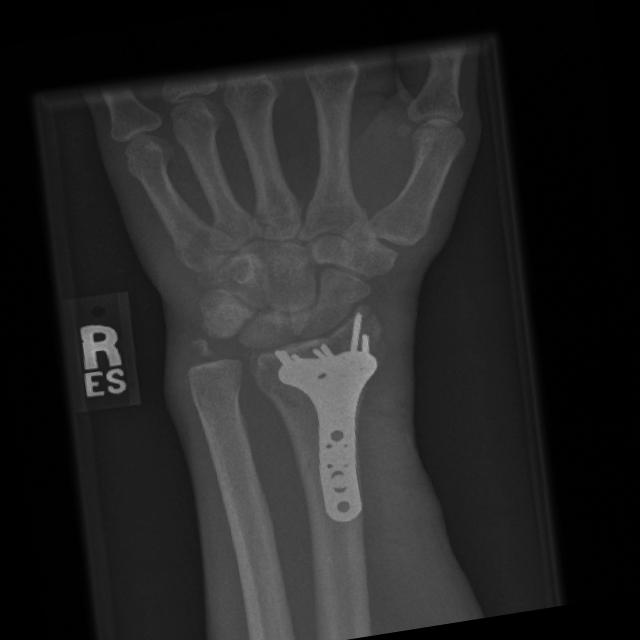fingers positive: (312, 288, 422, 397), (240, 332, 343, 430)
